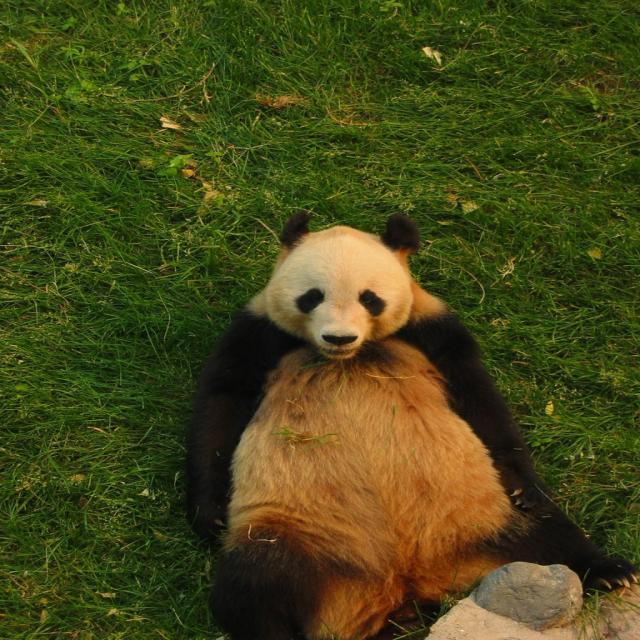panda: (177, 210, 639, 639)
